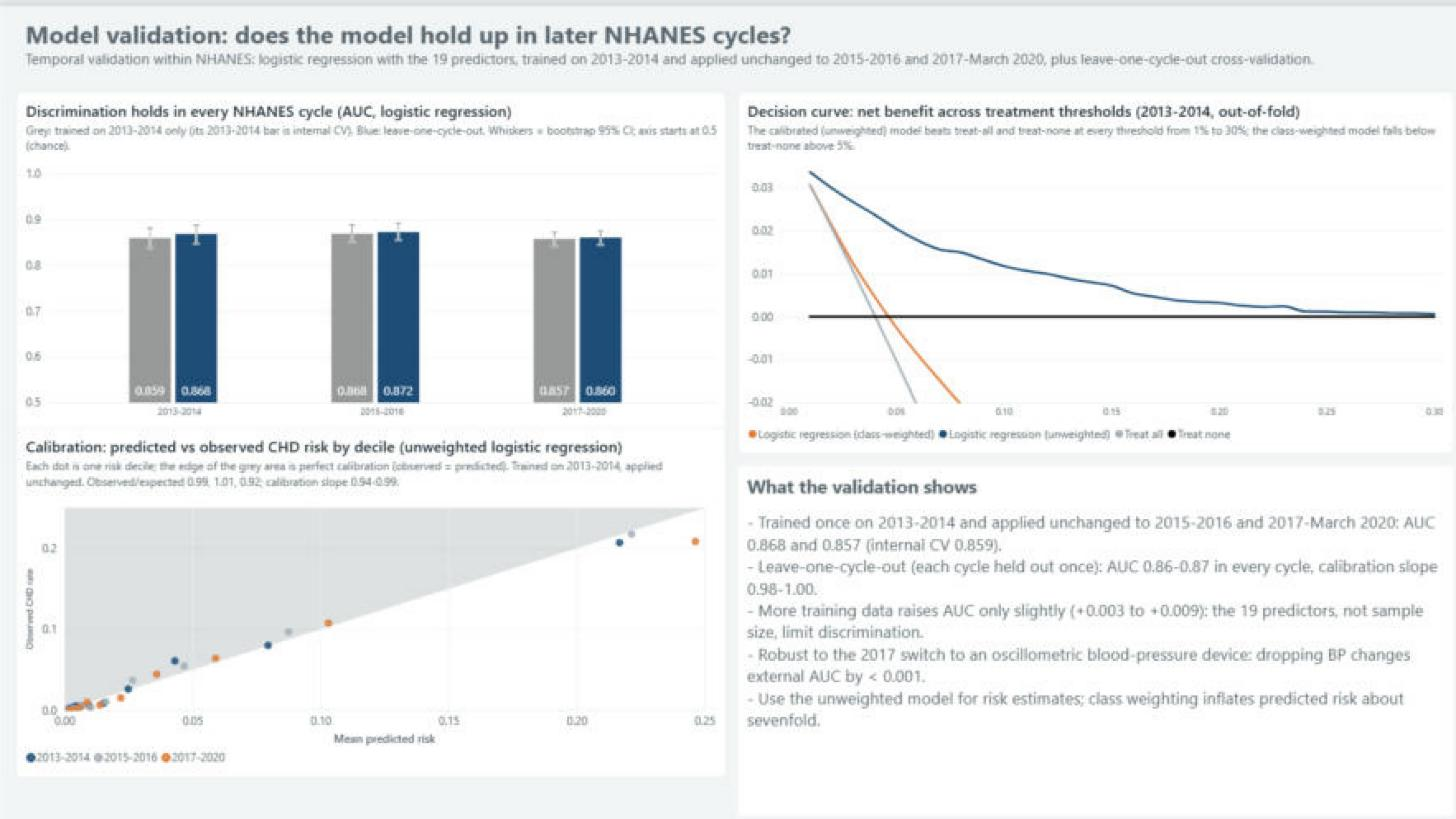

This screenshot's page, from the dashboard's own definition file:
{"tool":"powerbi","page":{"name":"3. Model validation","canvas":[1920,1080],"ordinal":2},"visuals":[{"type":"clusteredColumnChart","title":"Discrimination holds in every NHANES cycle (AUC, logistic regression)","fields":{"Category":["validation.Cycle"],"Series":["validation.Scheme"],"Y":["Sum(validation.AUC)"]},"box":[24,112,924,472],"z":0},{"type":"scatterChart","title":"Calibration: predicted vs observed CHD risk by decile (unweighted logistic regression)","fields":{"Series":["calibration.Cycle"],"X":["calibration.MeanPredicted"],"Y":["Sum(calibration.Observed)"]},"box":[24,549,924,456],"z":1000},{"type":"lineChart","title":"Decision curve: net benefit across treatment thresholds (2013-2014, out-of-fold)","fields":{"Category":["decision_curve.Threshold"],"Series":["decision_curve.Strategy"],"Y":["Sum(decision_curve.NetBenefit)"]},"box":[964,112,932,472],"z":2000},{"type":"textbox","box":[964,600,932,456],"z":3000},{"type":"textbox","box":[24,4,1872,98],"z":4000}]}

Visuals, with their boxes in screenshot pixels (x1, y1, x2, y2), scaled from the page's 1920x1080 canvas onto the 1456x819 screenshot:
"Discrimination holds in every NHANES cycle (AUC, logistic regression)" clusteredColumnChart: [left=18, top=85, right=719, bottom=443]
"Calibration: predicted vs observed CHD risk by decile (unweighted logistic regression)" scatterChart: [left=18, top=416, right=719, bottom=762]
"Decision curve: net benefit across treatment thresholds (2013-2014, out-of-fold)" lineChart: [left=731, top=85, right=1438, bottom=443]
textbox: [left=731, top=455, right=1438, bottom=801]
textbox: [left=18, top=3, right=1438, bottom=77]
